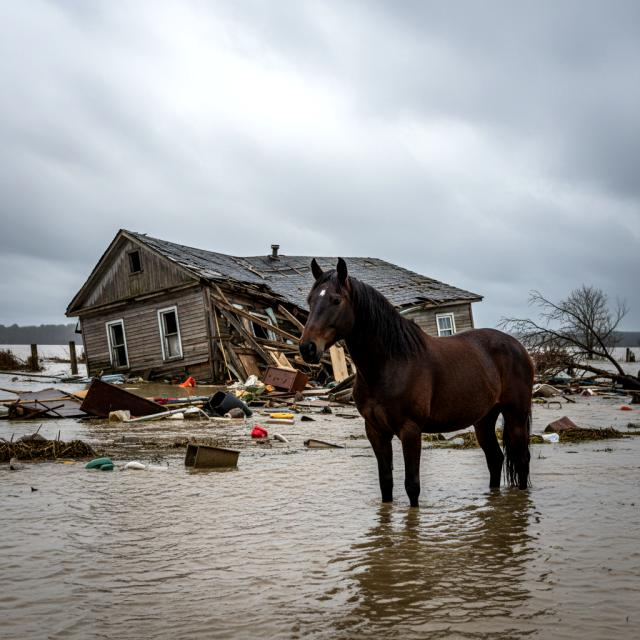horse: (281, 248, 558, 528)
